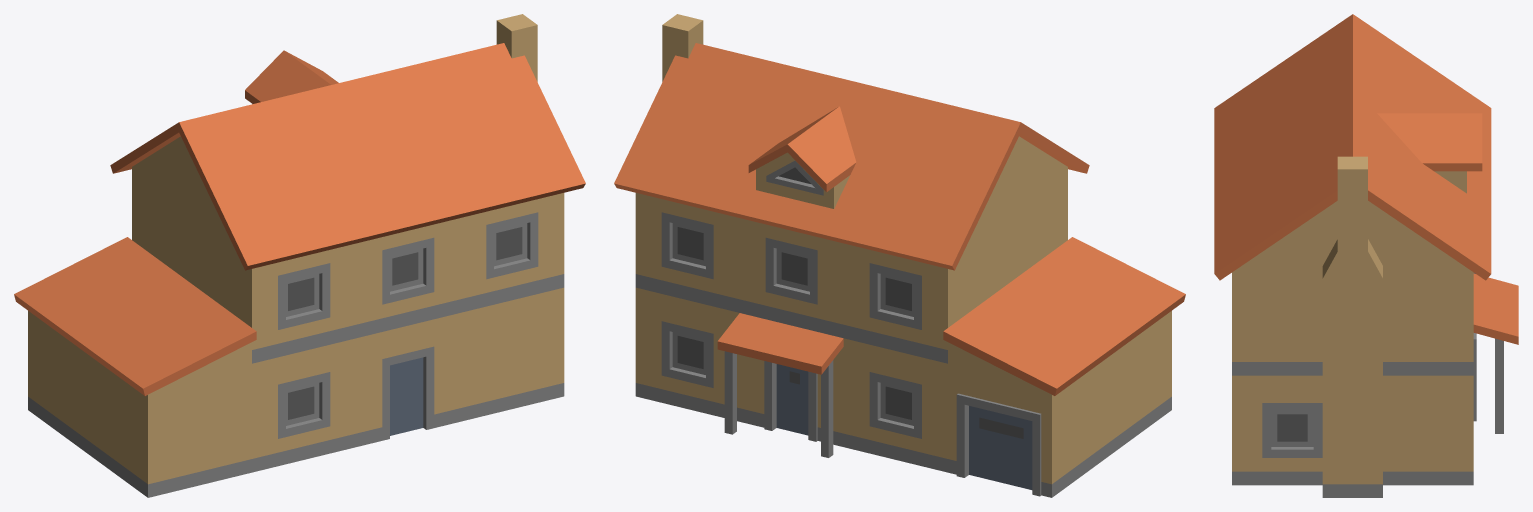
File: SM_Suburb_House_07.fbx
3 views of the same model, side by side, from view 1: azimuth 30°, elevation 25°; view 2: azimuth 150°, elevation 25°; view 3: azimuth 270°, elevation 25° (orthographic).
Parts seen in each view (by area): view 1: SM_Suburb_House_07; view 2: SM_Suburb_House_07; view 3: SM_Suburb_House_07.
Part boxes in pixels (x1,y1,x2,y2): SM_Suburb_House_07: [14, 14, 585, 497]; SM_Suburb_House_07: [614, 14, 1185, 497]; SM_Suburb_House_07: [1214, 14, 1518, 497].
Bounding box in the file's own units: 1250 × 864 × 724.
